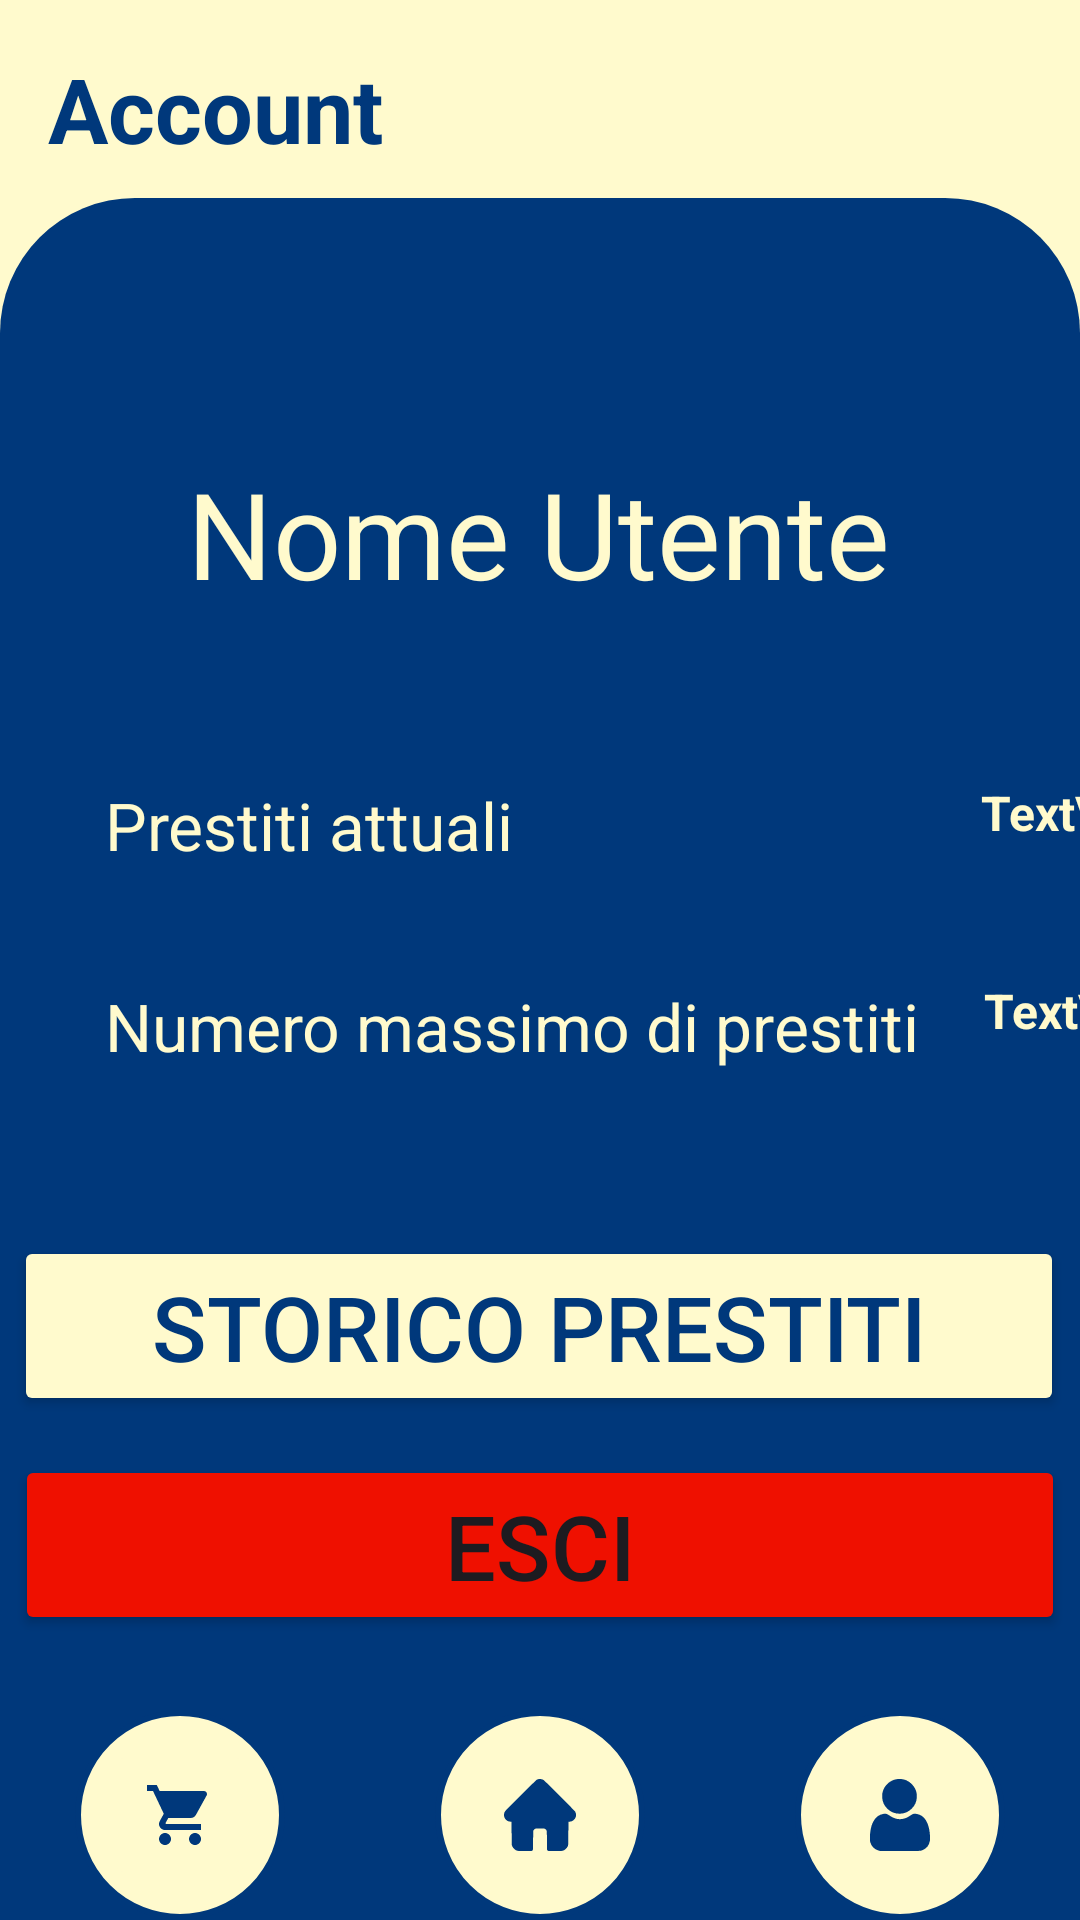

Icon bounding boxes for this 1080*1920 phone screenshot, format [x1, y1, x2, y2]:
account: [870, 1779, 930, 1851]
cart: [147, 1785, 207, 1845]
home: [504, 1779, 576, 1851]
